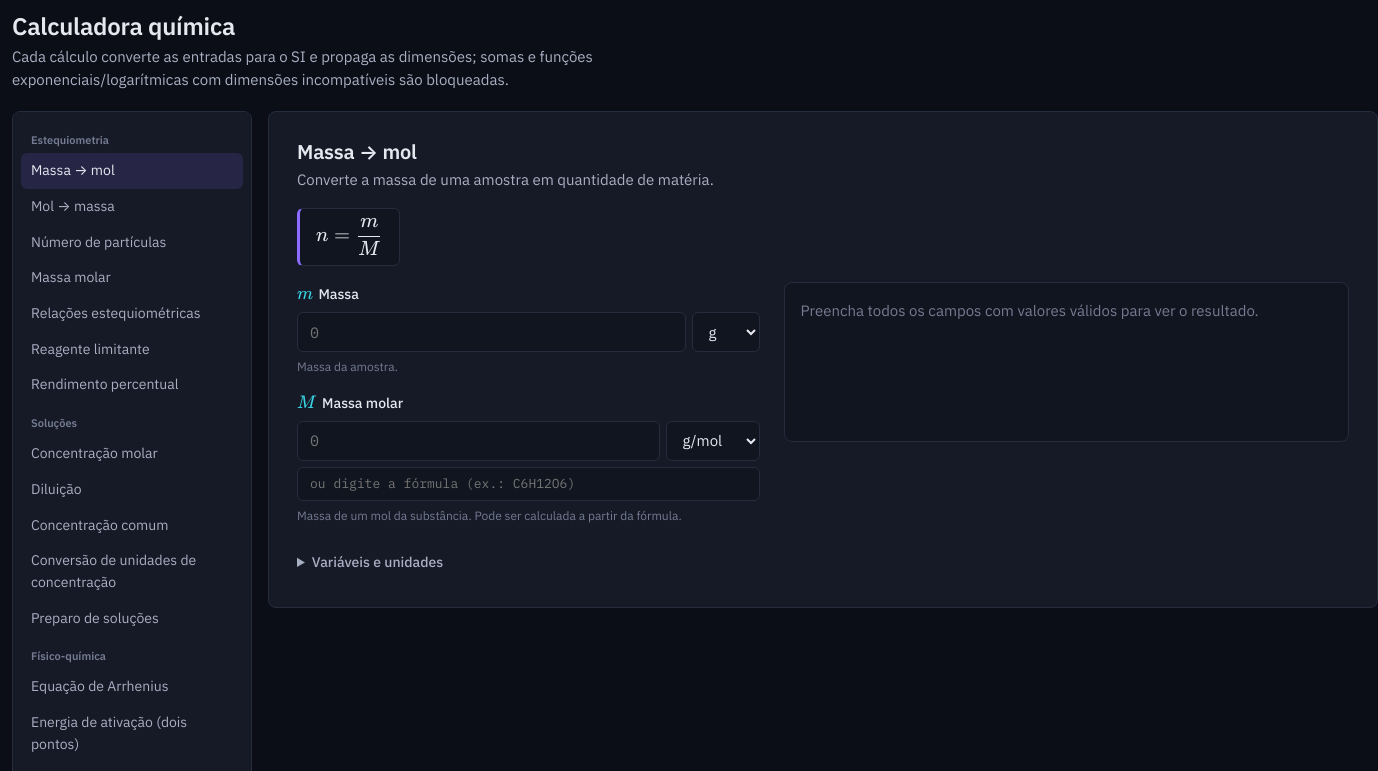
Scenario: troca de calculadora (regressão) › mol → massa calcula após vir de outra calculadora
This screenshot has width=1378, height=771.
Click the link "Mol → massa" at [73, 206], box [31, 197, 115, 215]
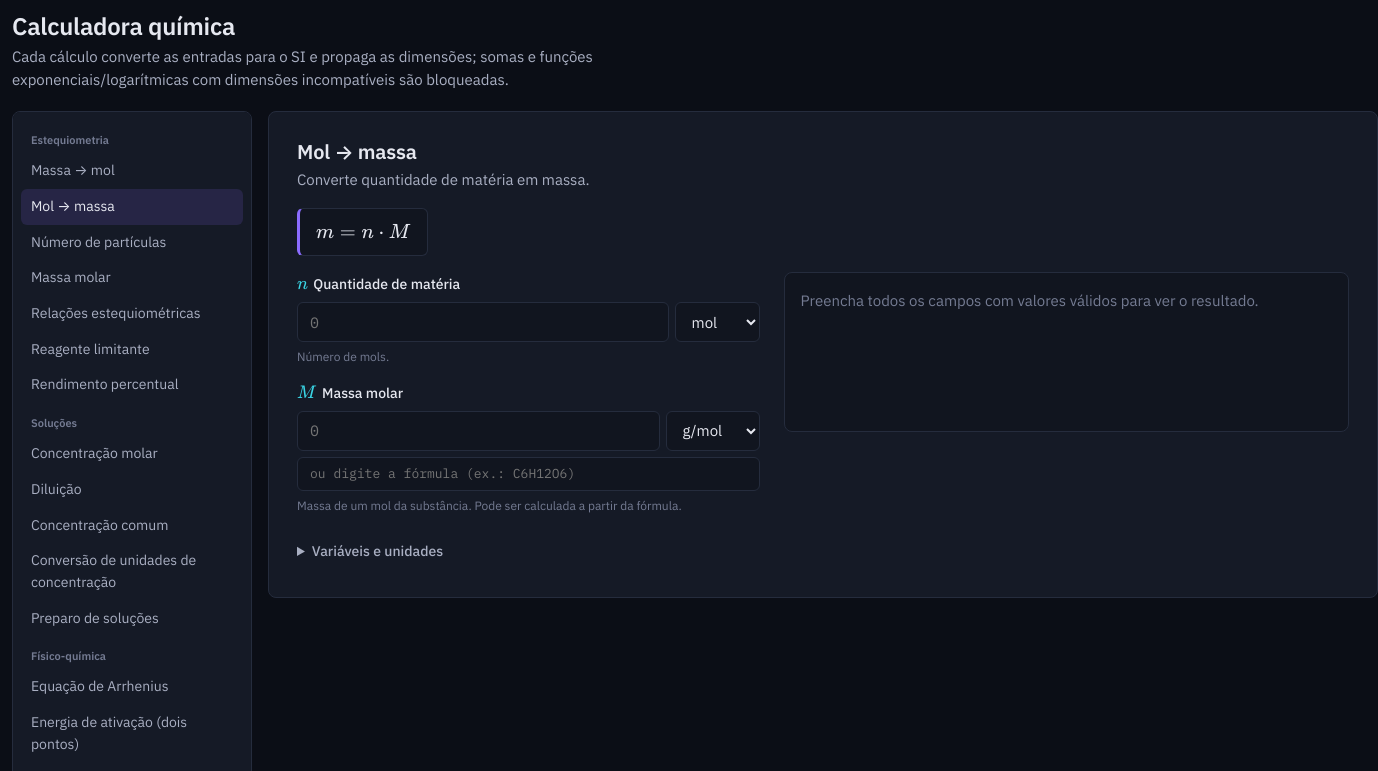
Type "0,5" into the field labelled "n Quantidade de matéria" at [483, 322], box [297, 302, 669, 342]
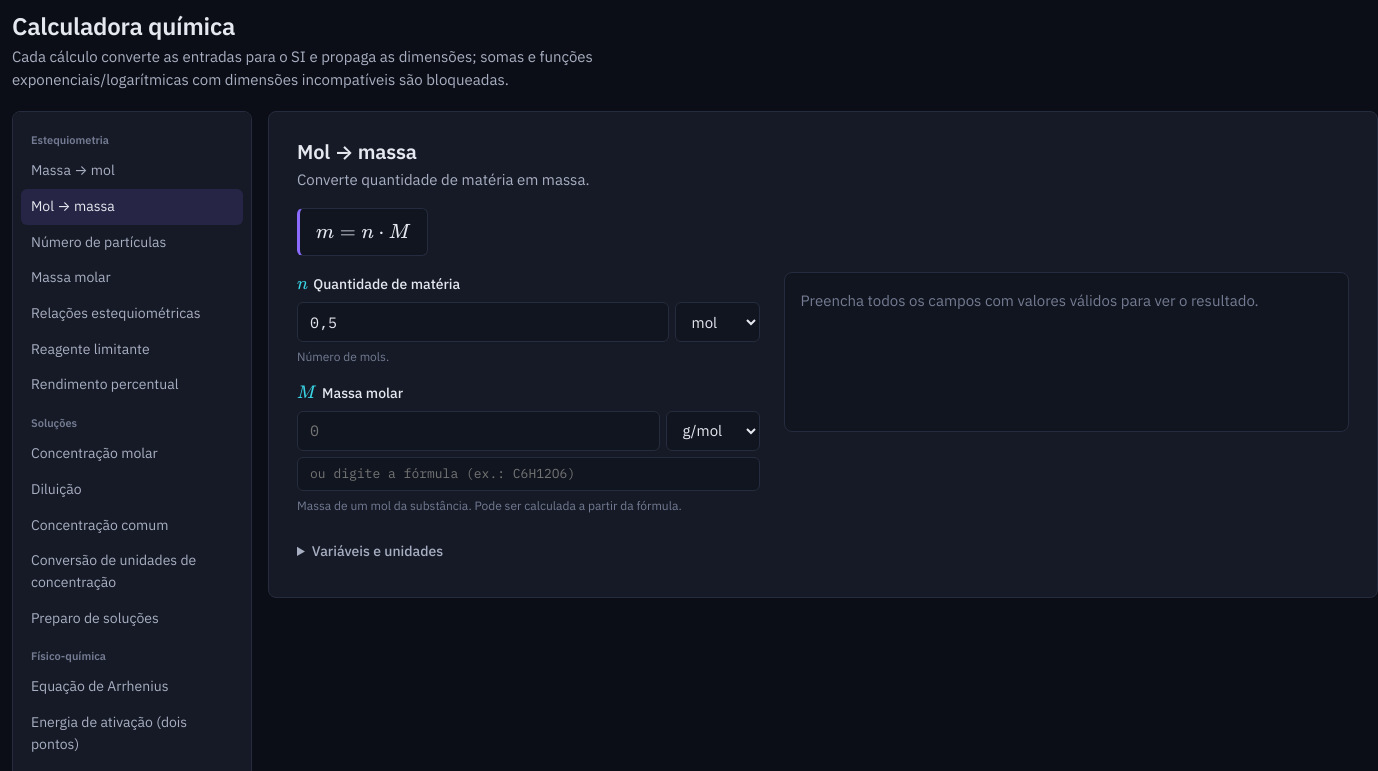
Type "58,44" into the field labelled "M Massa molar" at [478, 431], box [297, 411, 660, 451]
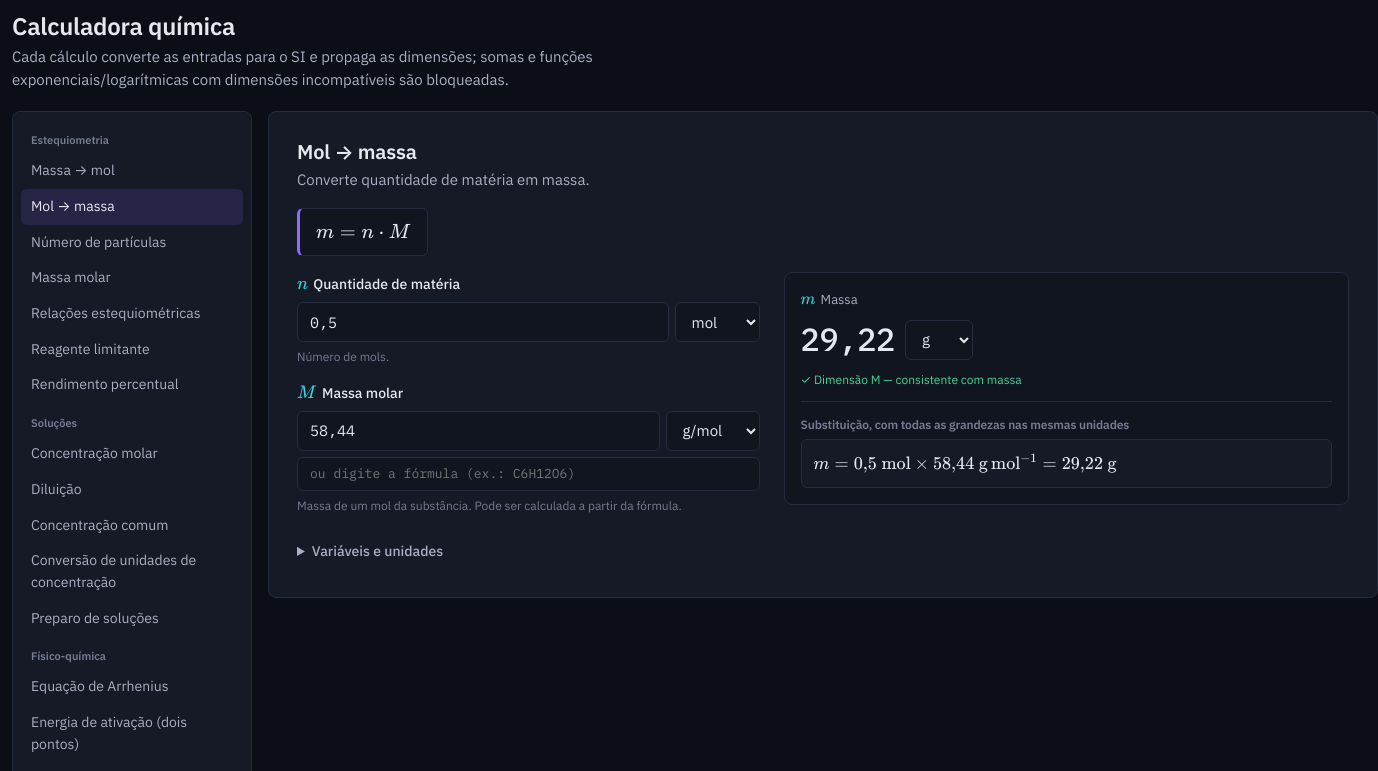
Now the text "29,22" is shown, box [801, 315, 895, 365]
